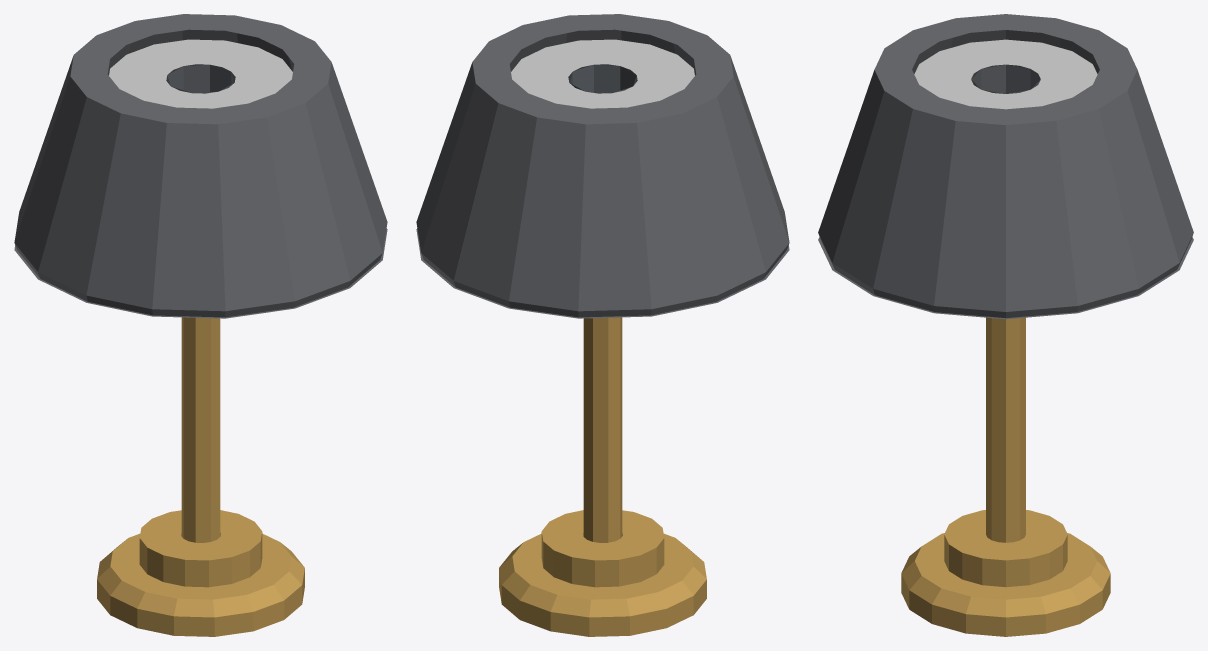
The model's file is FN_Lamp_Table.obj.
The picture shows the model from 3 angles, left to right: view 1: azimuth 30°, elevation 25°; view 2: azimuth 150°, elevation 25°; view 3: azimuth 270°, elevation 25°; orthographic projection.
Parts seen in each view (by area): view 1: FN_Lamp_Table; view 2: FN_Lamp_Table; view 3: FN_Lamp_Table.
Boxes of the visible parts, x1,y1,x2,y2 form: FN_Lamp_Table: (14,14,387,636); FN_Lamp_Table: (416,14,789,636); FN_Lamp_Table: (818,14,1193,636).
Bounding box in the file's own units: 0.28 × 0.43 × 0.28.
Materials: 2 (1 with a texture image).
